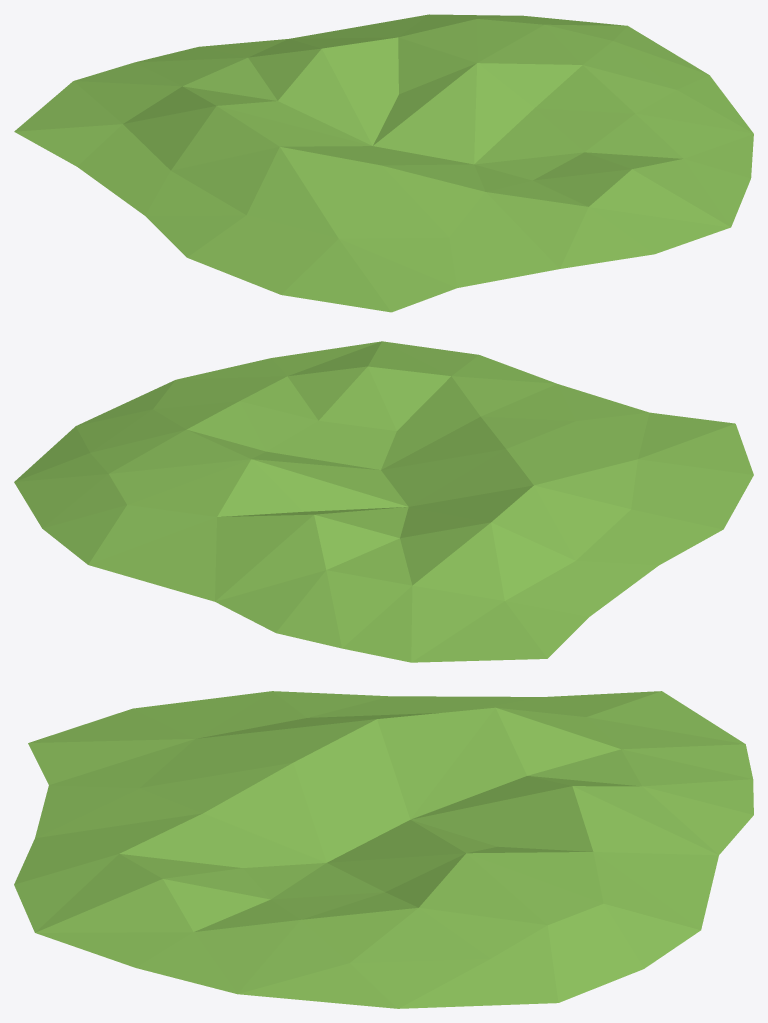
The model's file is MT_Mountain_S_a_11.fbx.
3 renders of one model, top to bottom at view 1: azimuth 30°, elevation 25°; view 2: azimuth 150°, elevation 25°; view 3: azimuth 270°, elevation 25°, orthographic. The views are drawn at different scales.
Visible parts, largest first — view 1: MT_Mountain_S_a_11; view 2: MT_Mountain_S_a_11; view 3: MT_Mountain_S_a_11.
Part boxes in pixels (x1,y1,x2,y2): MT_Mountain_S_a_11: (14,14,753,312); MT_Mountain_S_a_11: (14,341,753,662); MT_Mountain_S_a_11: (14,691,753,1008).
Size of the model in its own units: 2111 by 171 by 2070.
